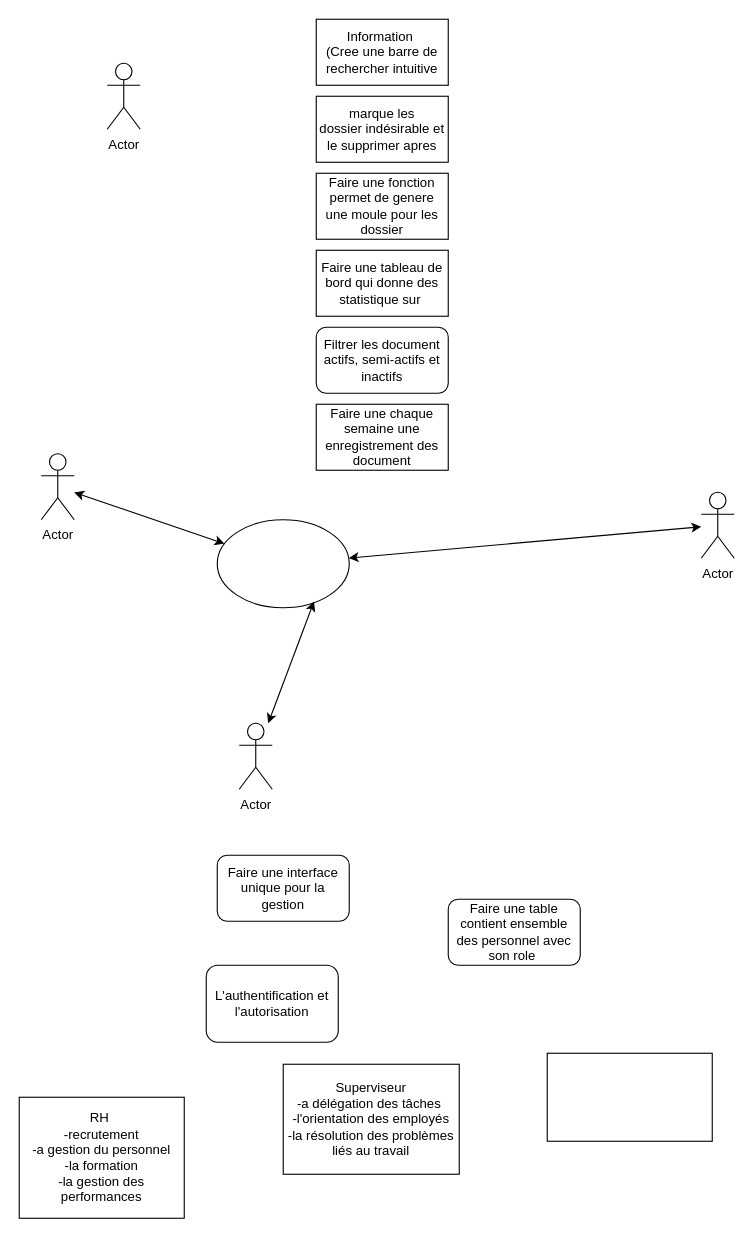
The diagram is 754 pixels wide and 1238 high, and some of its shapes have lost their labels. Here are the shapes that lost their labels. From the top down, the centre of each, then its label:
pixel 282 563: Information
pixel 629 1096: Employer - travail dans une bureau - travail dans le terrain
